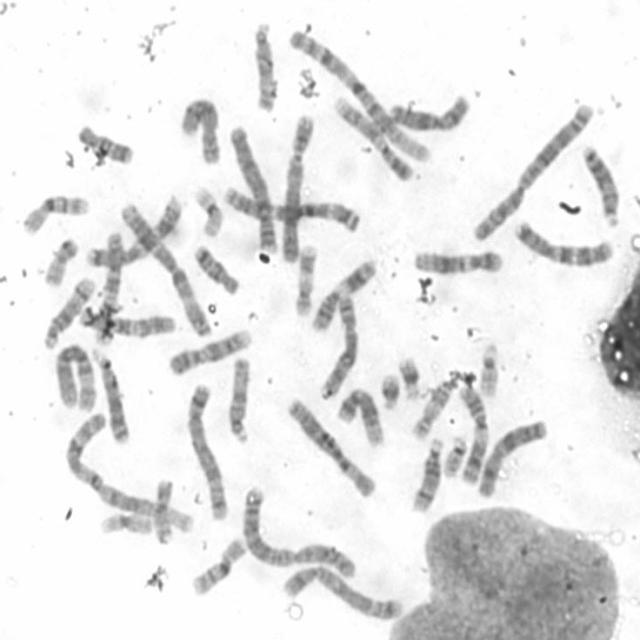A1: (289, 28, 434, 165), (64, 410, 196, 536)
A2: (471, 102, 596, 243), (242, 487, 359, 579)
A3: (118, 202, 213, 340), (222, 181, 365, 234)
B4: (230, 125, 278, 255), (281, 113, 316, 263)
B5: (281, 564, 404, 622), (187, 381, 230, 523)
C10: (80, 304, 178, 336), (96, 230, 124, 338)
C11: (310, 258, 378, 333), (458, 385, 490, 486)
C12: (336, 385, 387, 447), (412, 250, 504, 276)
C6: (286, 398, 380, 500), (53, 342, 97, 414)
C7: (84, 194, 184, 270), (514, 219, 616, 270)
C8: (322, 295, 360, 401), (179, 96, 222, 164)
C9: (334, 95, 416, 185), (167, 328, 254, 378)
D13: (89, 346, 131, 446), (579, 141, 624, 230)
D14: (41, 275, 96, 353), (409, 437, 446, 515)
D15: (249, 21, 281, 113), (225, 357, 255, 446)
E16: (190, 537, 248, 599), (22, 194, 90, 236)
E17: (411, 382, 452, 442), (292, 242, 322, 317)
E18: (190, 245, 241, 298), (76, 124, 134, 164)
F19: (192, 184, 225, 241), (100, 511, 155, 536)
F20: (43, 238, 80, 285), (154, 480, 176, 544)
G21: (397, 355, 422, 400), (381, 372, 403, 411)
G22: (478, 344, 502, 399), (441, 434, 468, 479)
X: (476, 419, 550, 499), (389, 94, 473, 132)
